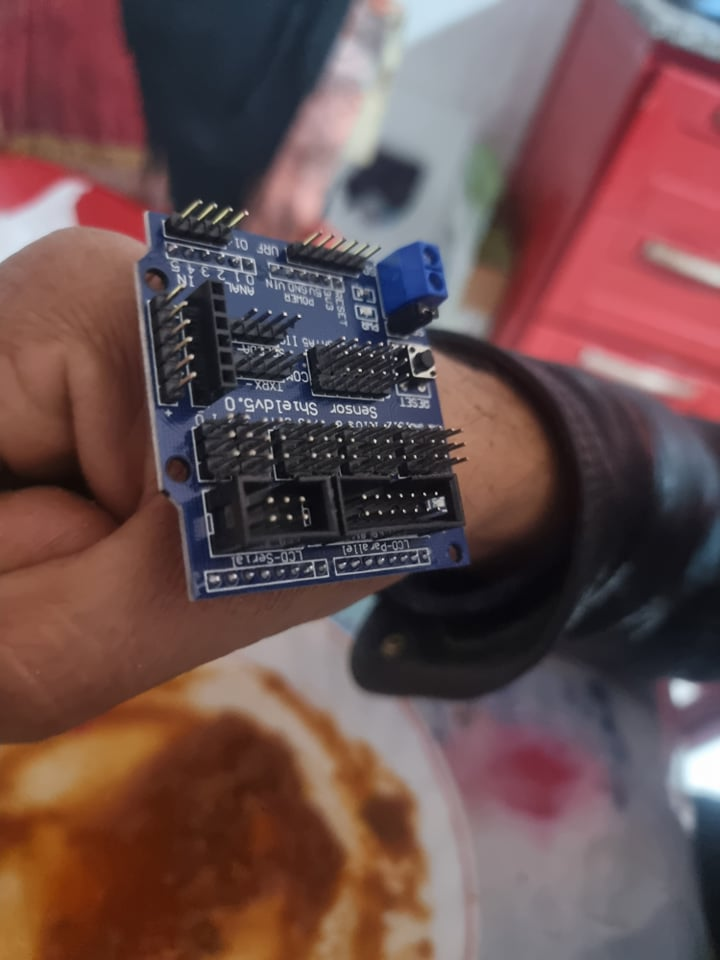5V EXPANSION: (130, 201, 474, 608)
